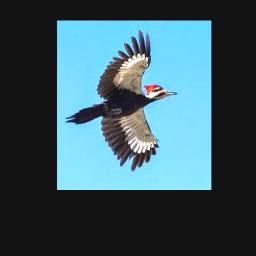Woodpecker: (65, 28, 178, 171)
